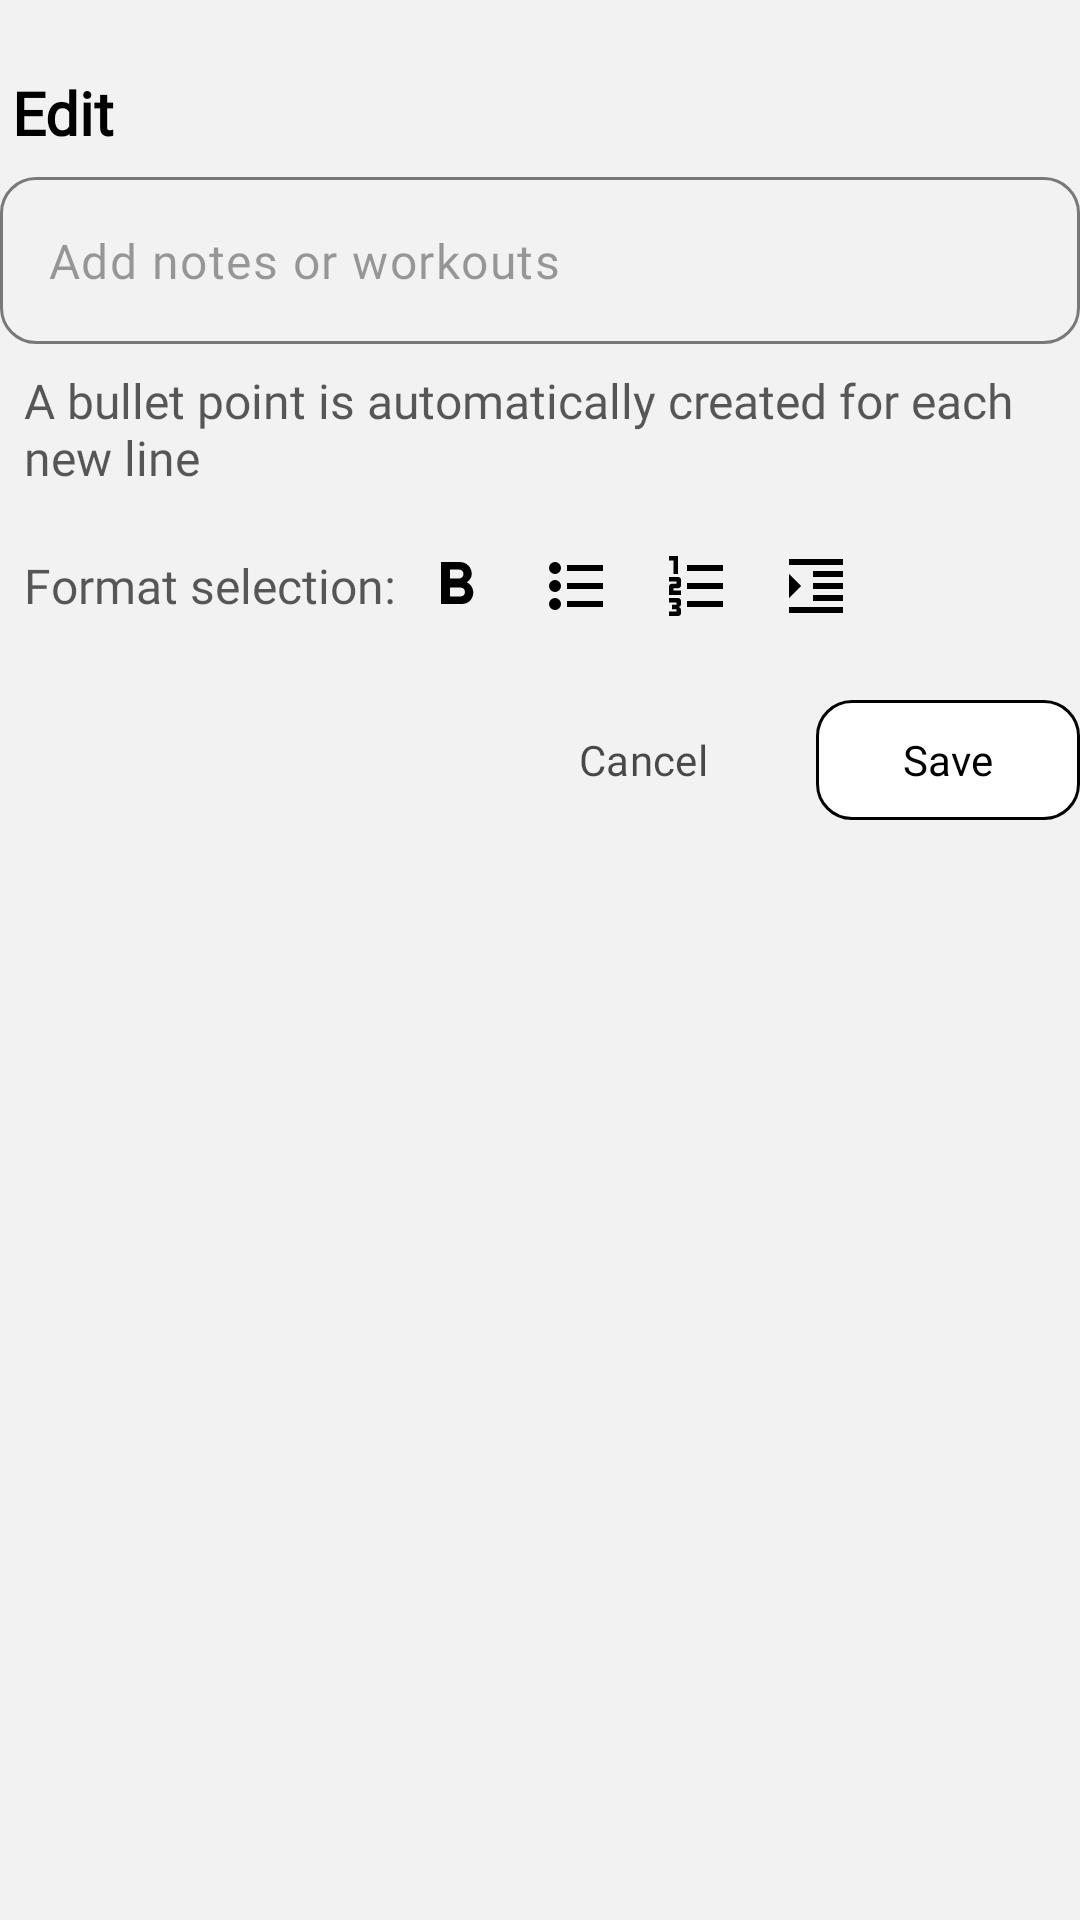

Icons on this 1080w x 1920h Android screen, each with the point to tap as (x,y):
Bold selection: (457,583)
Bullet list: (576,586)
Numbered list: (696,586)
